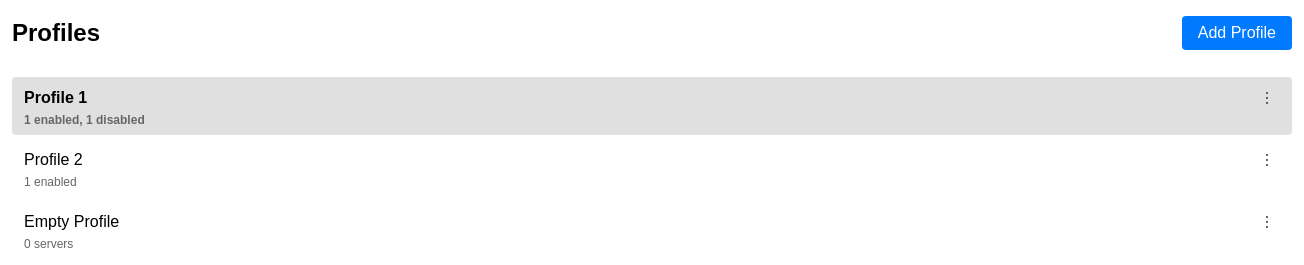
Test: ProfileSelector › shows export JSON option in dropdown menu
Click the button named "More options" in the row of "Profile 1" at coordinates (1267, 98), box [1254,85,1280,111]
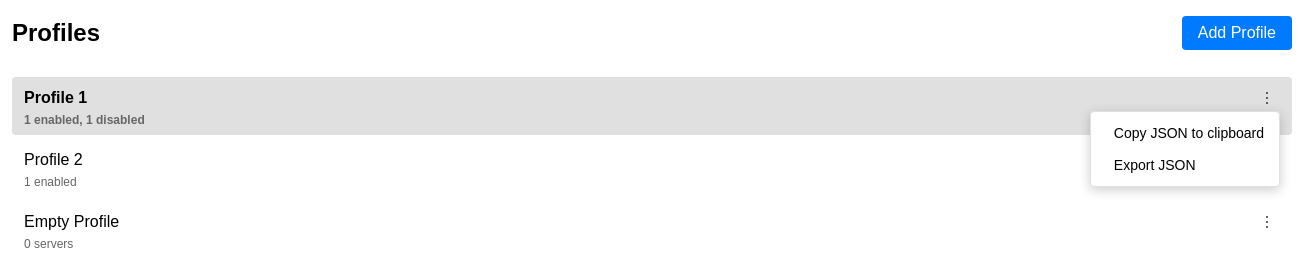
Result: the text "Export JSON" is shown at [1106,157,1196,173]
Result: the text "Copy JSON to clipboard" is shown at [1106,125,1264,141]
